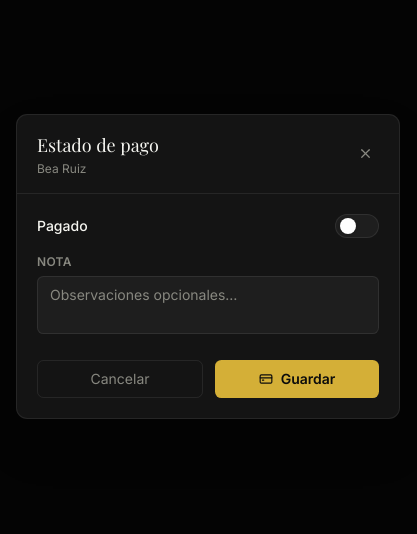
Test: PaymentModal (pago por jugador) › al marcar pagado sin fecha, pone la de hoy en hora local
Step 1. Click the button without text in the row of "Pagado" → (357, 226), box [335,214,379,238]
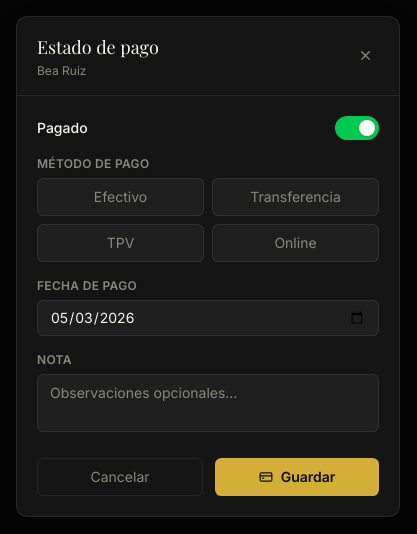
Now the date field showing "2026-05-03" is shown, box [37,300,379,336]
